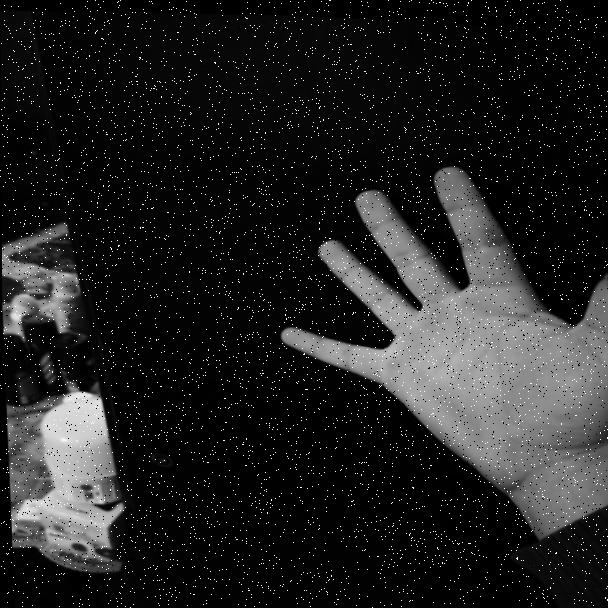five: (255, 142, 608, 457)
